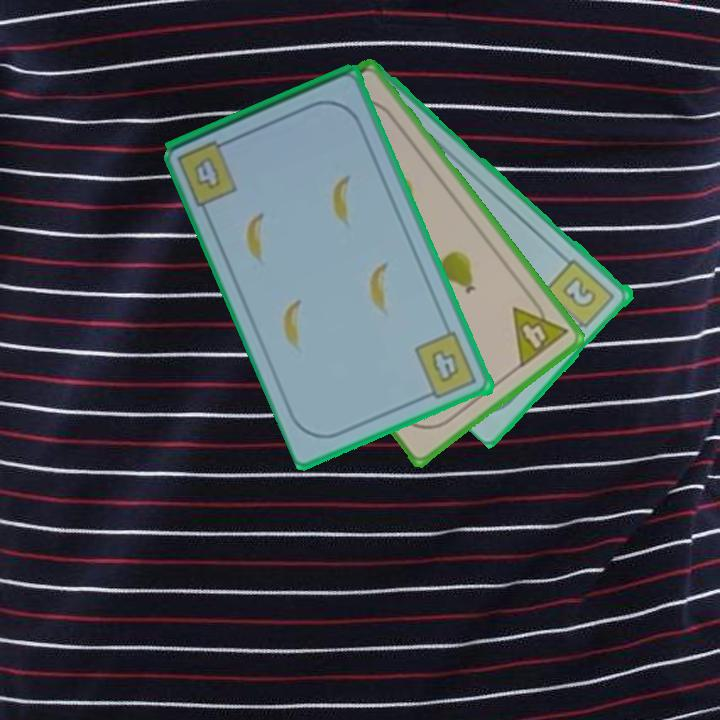2b: (542, 255, 619, 336)
4b: (412, 329, 481, 403), (174, 135, 241, 209)
4p: (508, 291, 571, 371)
